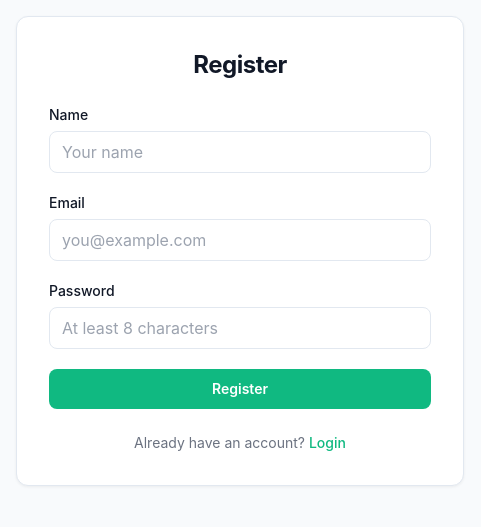
Test case: RegisterPage › shows validation error for short password
In the field labelled "Name": (240, 152) [49,131,431,173], type "Test User"
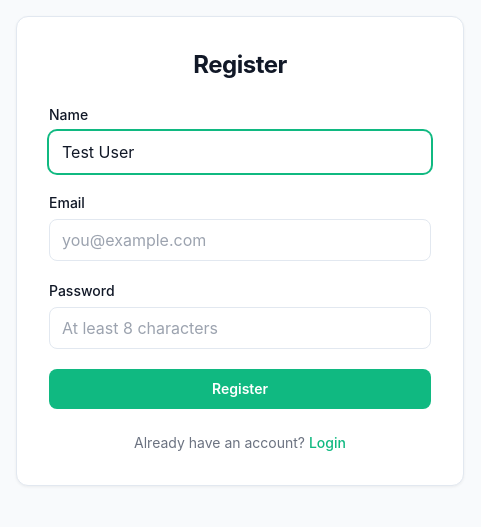
In the field labelled "Email": (240, 240) [49,219,431,261], type "test@example.com"
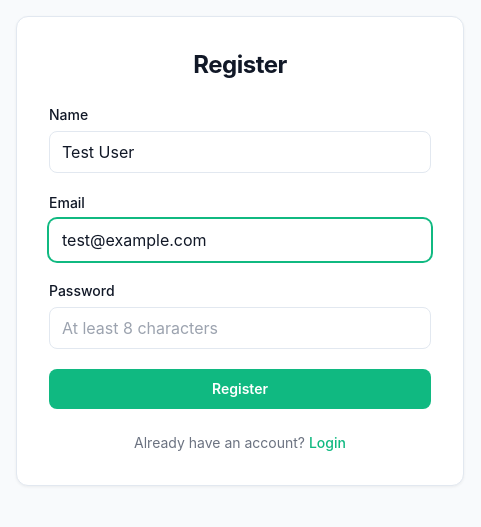
In the password field labelled "Password": (240, 328) [49,307,431,349], type "short"
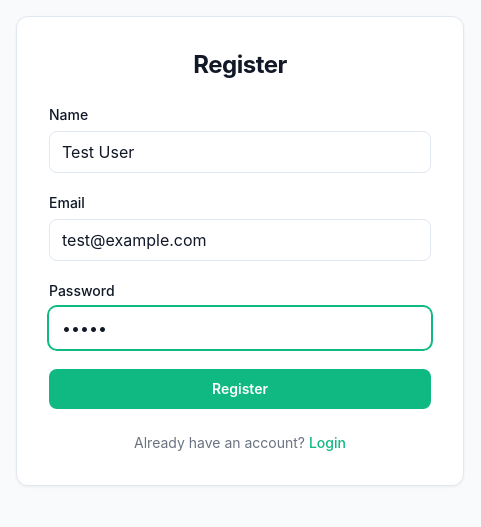
Click the button "Register": click(240, 389) [49,369,431,409]
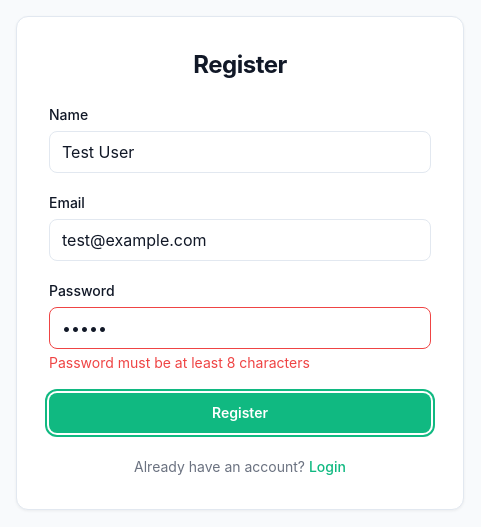
Result: the text "Password must be at least 8 characters" is shown at [49,354,310,371]
